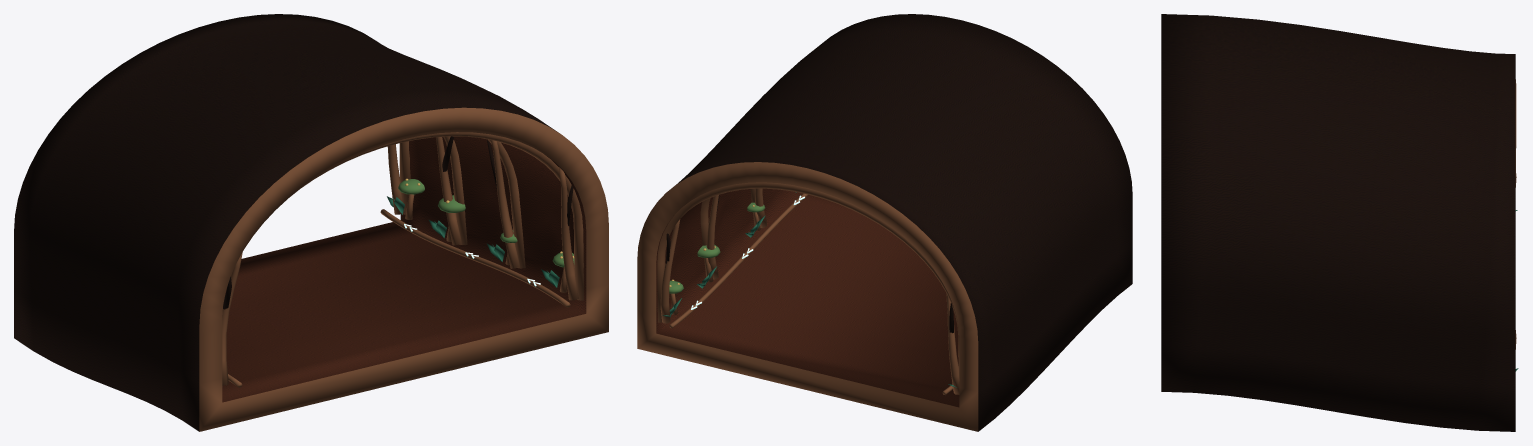
File: grade_down.glb
3 renders of one model, left to right at view 1: azimuth 30°, elevation 25°; view 2: azimuth 150°, elevation 25°; view 3: azimuth 270°, elevation 25°, orthographic. The views are drawn at different scales.
Parts seen in each view (by area): view 1: TunnelGeometry; view 2: TunnelGeometry; view 3: TunnelGeometry.
Boxes of the visible parts, x1=… form: TunnelGeometry: x1=14, y1=14, x2=608, y2=431; TunnelGeometry: x1=637, y1=14, x2=1132, y2=431; TunnelGeometry: x1=1161, y1=14, x2=1518, y2=431.
Bounding box in the file's own units: 15.3 × 11.02 × 12.1.
7 materials, 2 textured.
